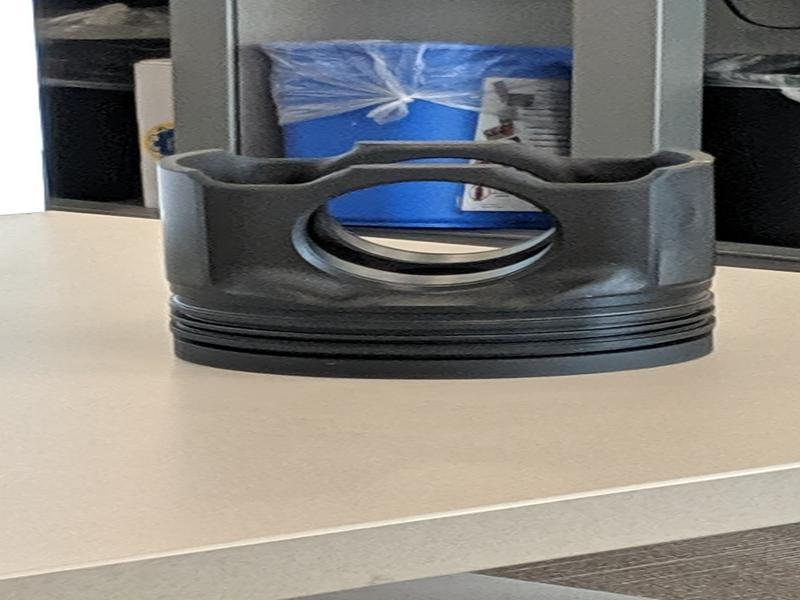piston: (154, 138, 723, 386)
